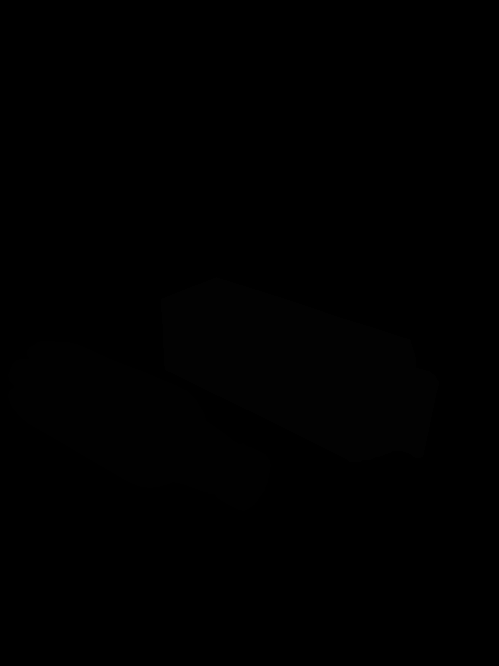carton: (157, 275, 440, 467)
water_bottle: (4, 339, 274, 514)
